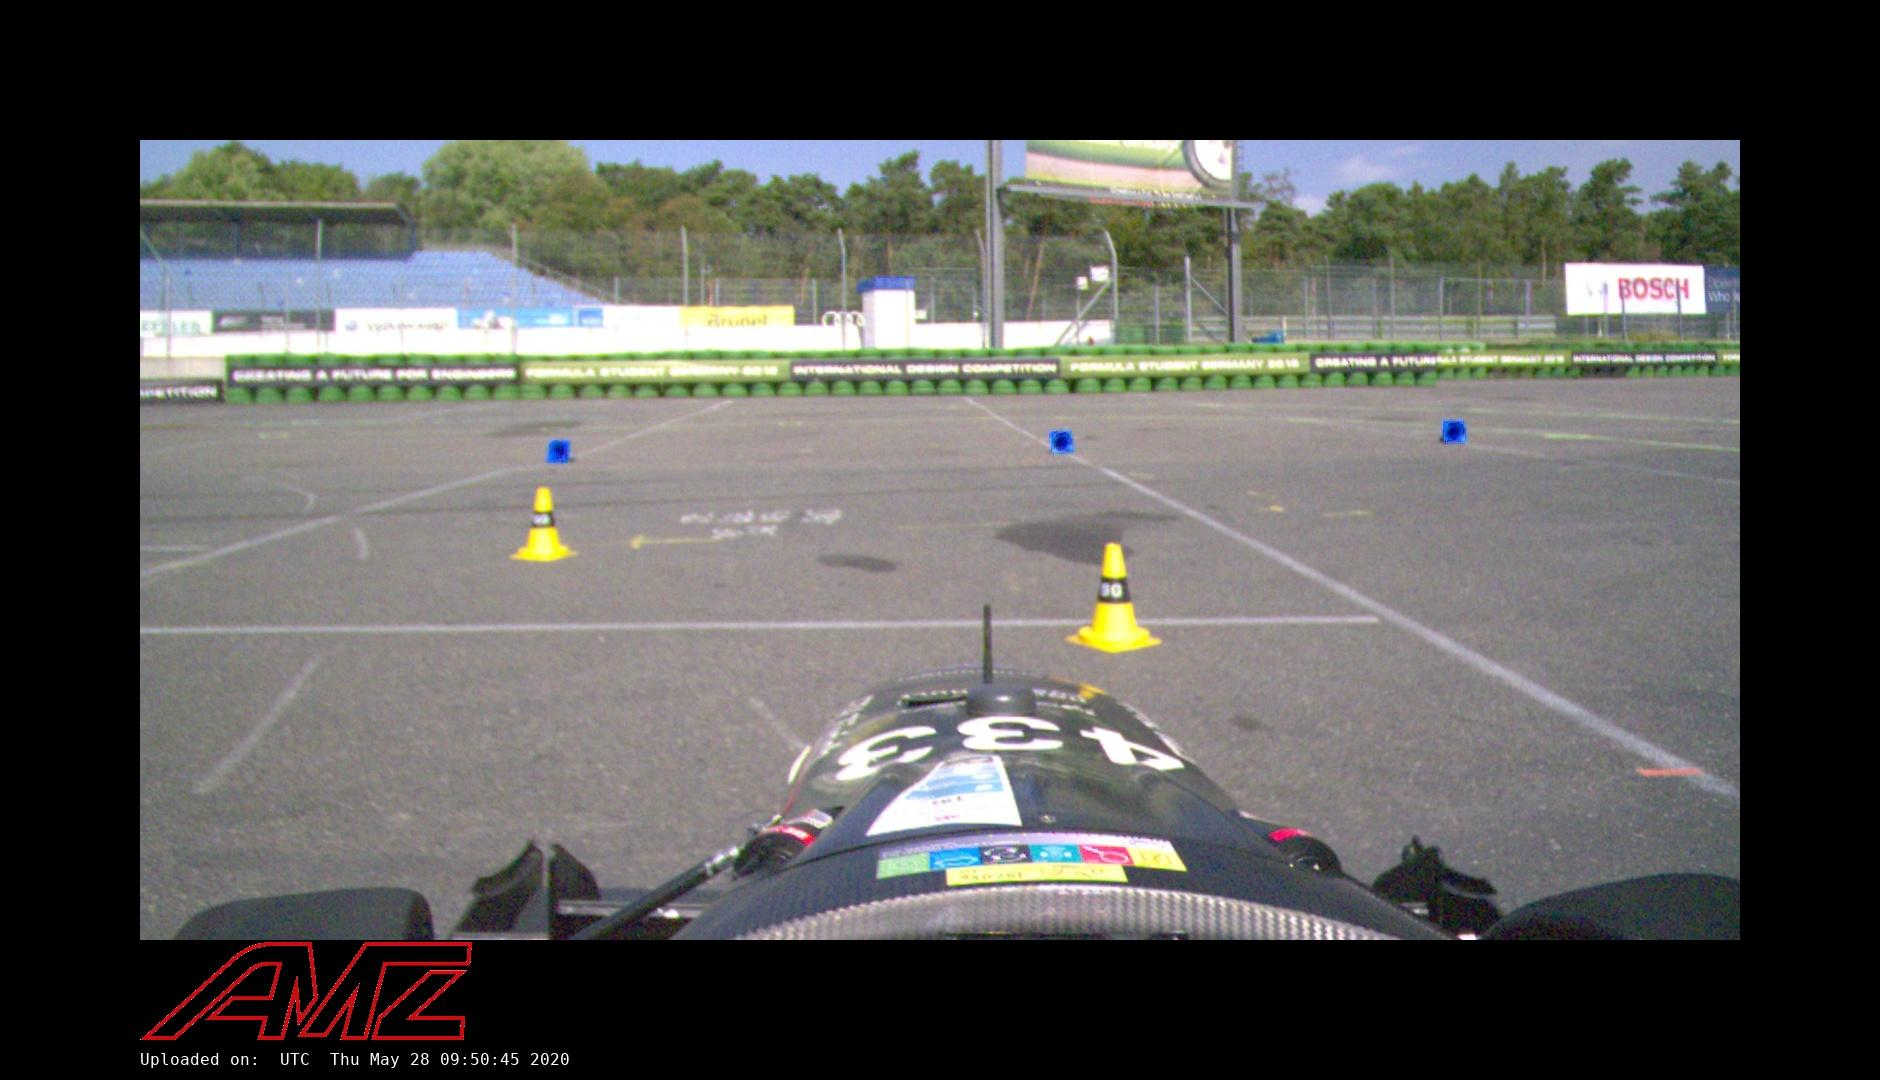blue_cone: (545, 439, 577, 464), (1048, 429, 1076, 453), (1442, 419, 1467, 444)
yellow_cone: (1065, 543, 1162, 652), (510, 487, 576, 561)
